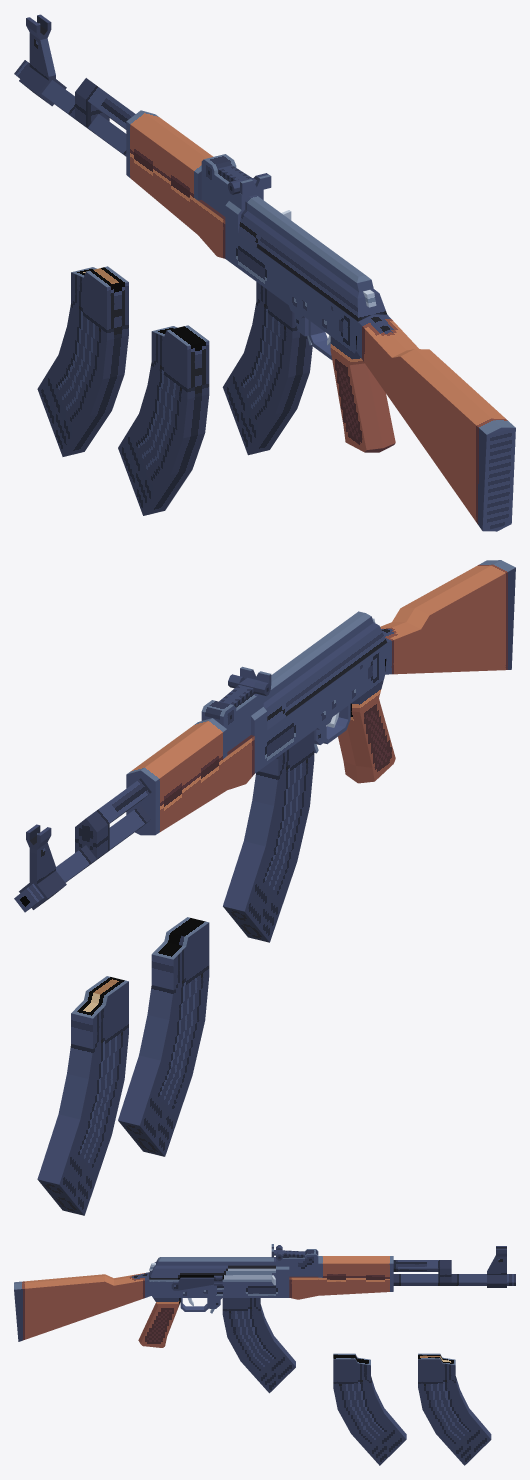
3 renders of one model, top to bottom at view 1: azimuth 30°, elevation 25°; view 2: azimuth 150°, elevation 25°; view 3: azimuth 270°, elevation 25°, orthographic. The views are drawn at different scales.
Visible parts, largest first — view 1: AK47, mag_empty, mag_full, magazine, rear sight; view 2: AK47, mag_empty, mag_full, magazine, rear sight; view 3: AK47, mag_empty, mag_full, magazine, switch.
Boxes of the visible parts, x1,y1,x2,y2 form: AK47: (14, 14, 515, 531); mag_empty: (118, 325, 209, 515); mag_full: (37, 266, 128, 456); magazine: (222, 282, 312, 455); rear sight: (217, 165, 271, 194); AK47: (14, 560, 515, 912); mag_empty: (118, 917, 209, 1156); mag_full: (37, 976, 128, 1215); magazine: (223, 731, 314, 942); rear sight: (219, 666, 271, 706); AK47: (14, 1246, 515, 1347); mag_empty: (333, 1353, 406, 1465); mag_full: (418, 1353, 491, 1465); magazine: (222, 1298, 295, 1393); switch: (171, 1275, 222, 1290).
Size of the model in its own units: 93.75 by 669 by 1413.
Materials: 1 (1 with a texture image).
